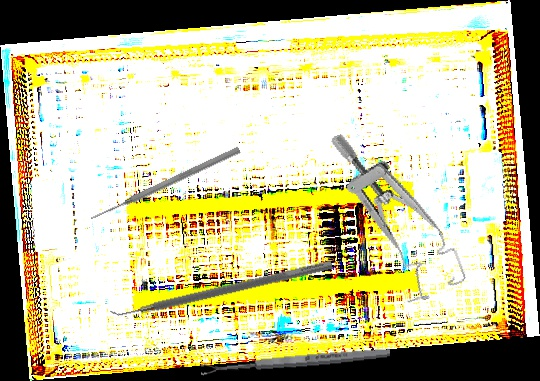Pusher: (88, 144, 242, 224)
Spatula Surgical: (107, 249, 334, 325)
Speculum: (327, 109, 470, 313)
Surgical Spoon: (200, 346, 391, 376)
